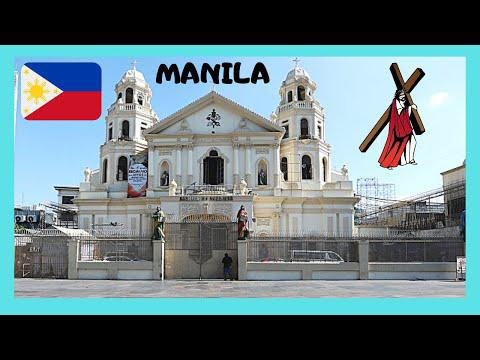quiapo_church_quiapo_manila: (89, 50, 347, 283)
